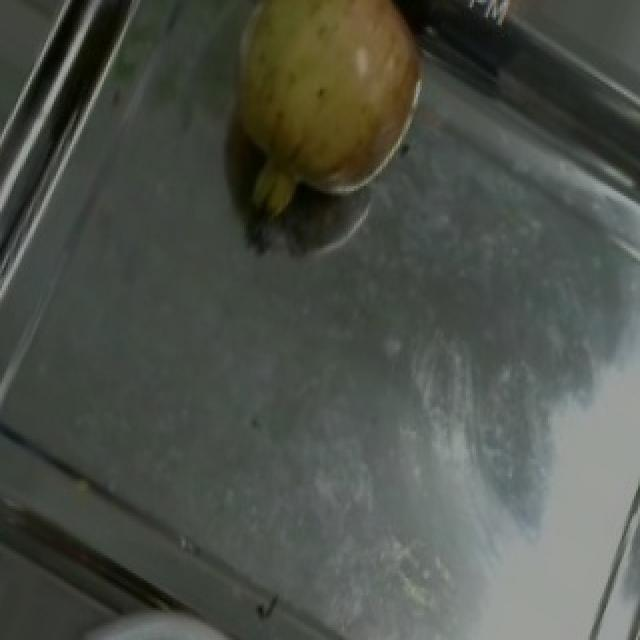fruit: (200, 0, 454, 231)
